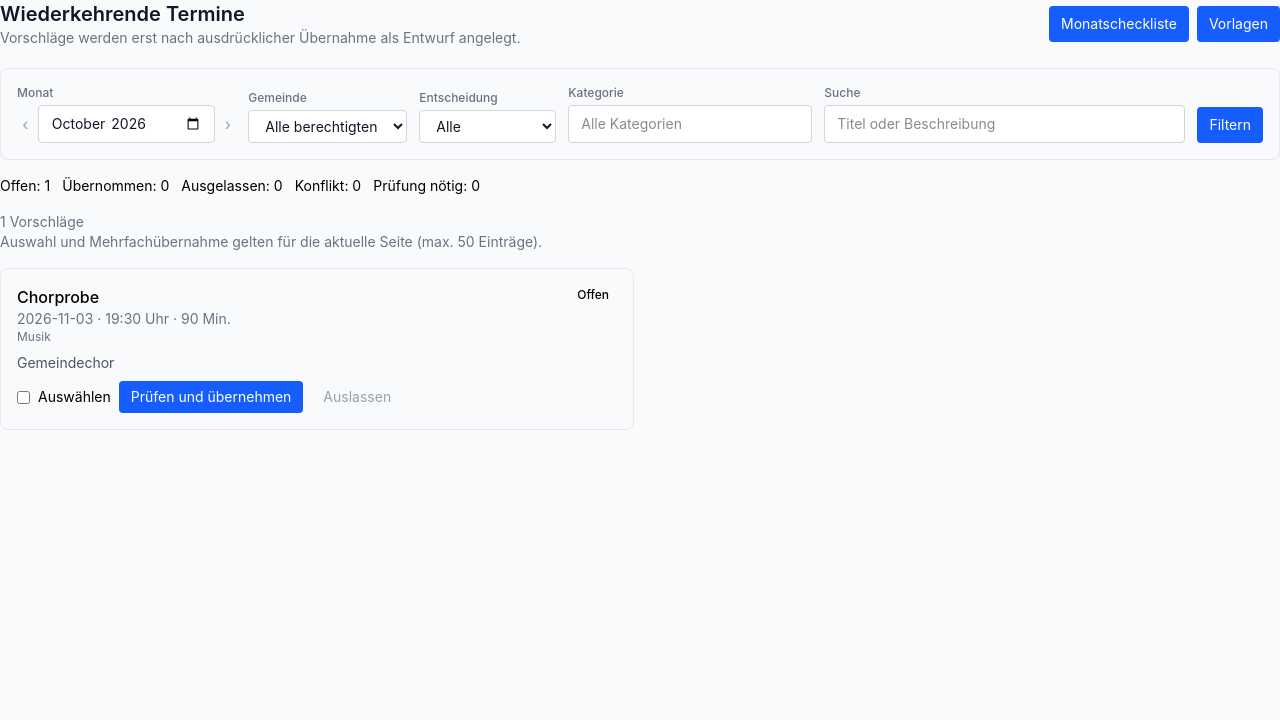
Test: recurring monthly checklist › keeps template management usable when month expansion is too large
Click the button "Filtern": [1230, 125] box x1=1197 y1=107 x2=1263 y2=143
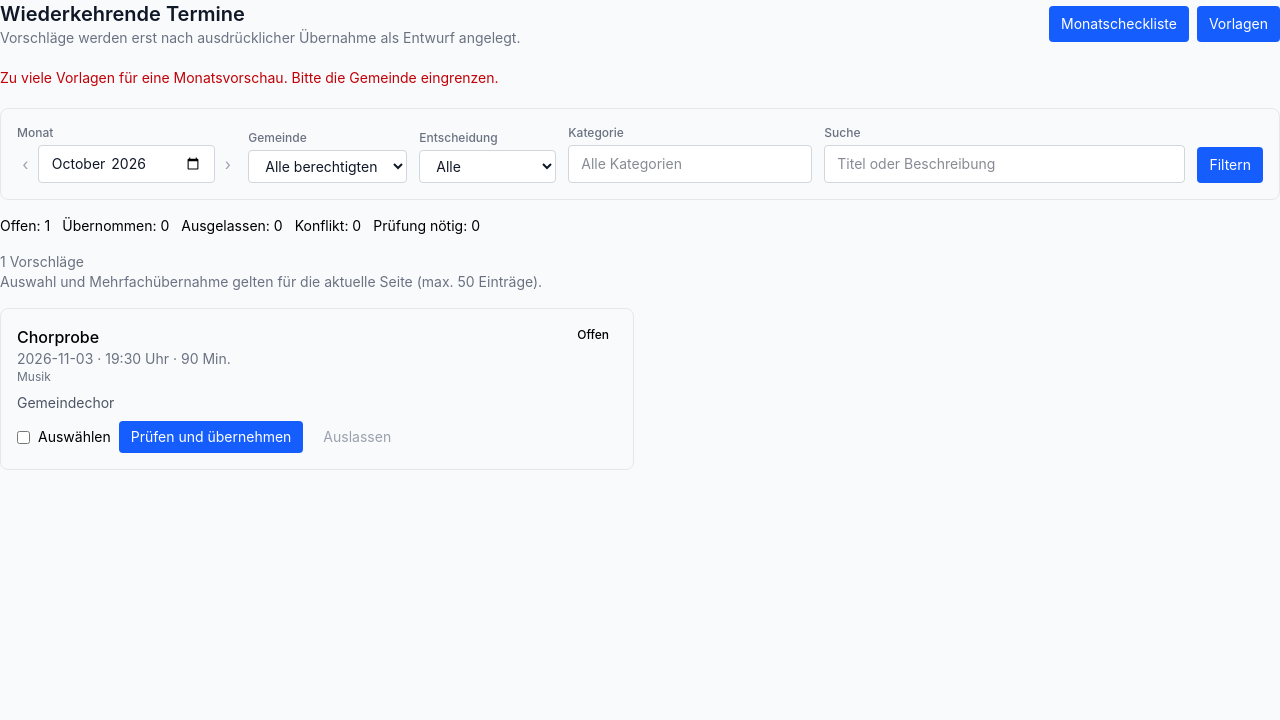
Click the button "Vorlagen": [1238, 24] box x1=1197 y1=6 x2=1279 y2=42
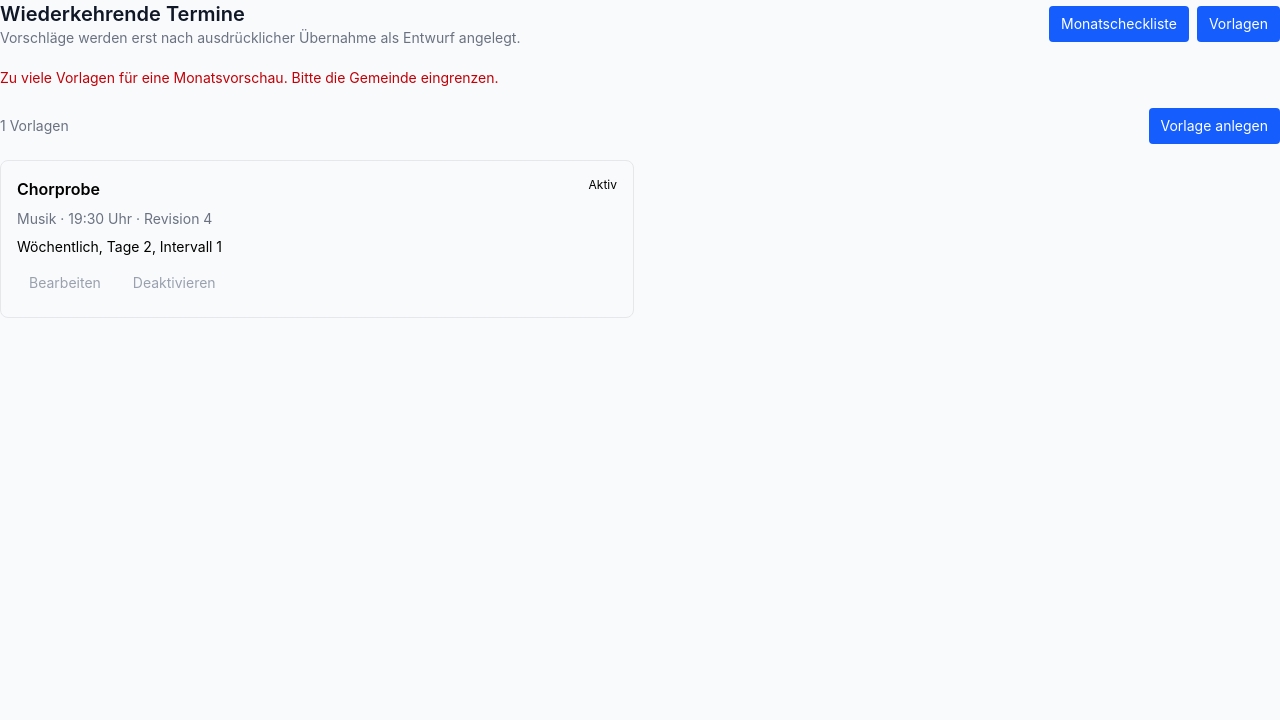
Expected: the text "Chorprobe" is shown, x1=17 y1=177 x2=100 y2=201
Expected: the message "Zu viele Vorlagen für eine Monatsvorschau. Bitte die Gemeinde eingrenzen." is shown, x1=0 y1=69 x2=499 y2=86
Expected: the text "1 Vorlagen" is shown, x1=0 y1=116 x2=69 y2=136
Click the button "Bearbeiten": [65, 283] box x1=17 y1=265 x2=113 y2=301
(page scrolled)
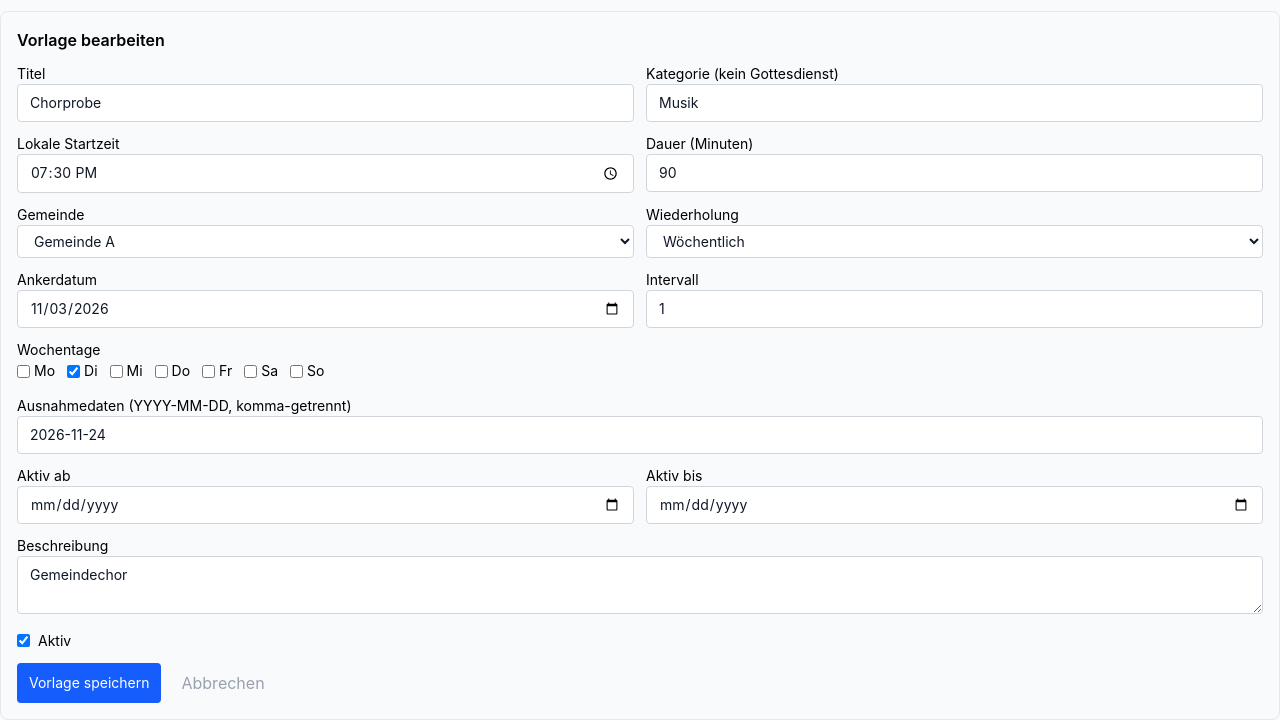
Expected: the form with test id "recurring-template-form" is shown
